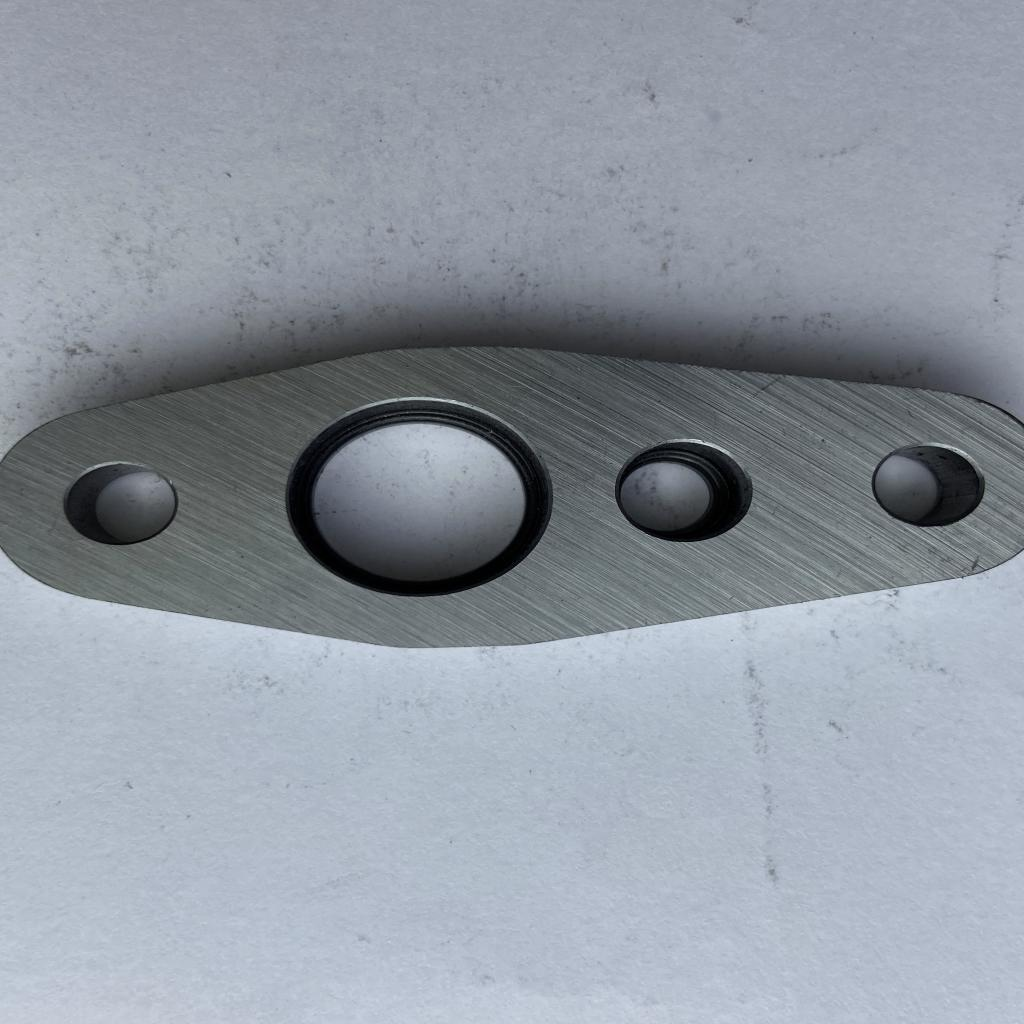lines: (748, 376, 786, 400), (966, 553, 985, 573)
